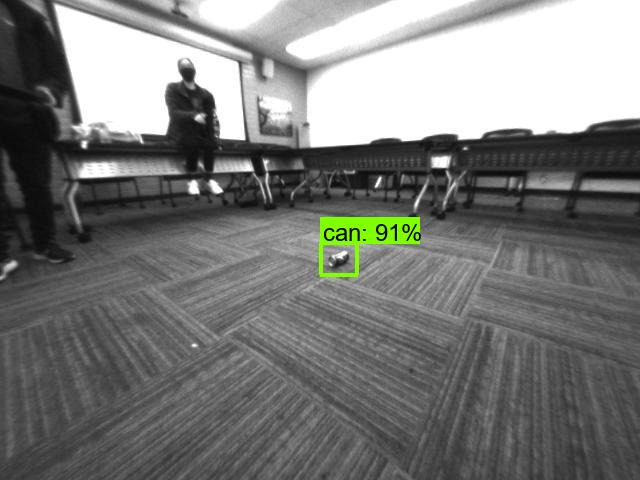can: (324, 246, 357, 272)
